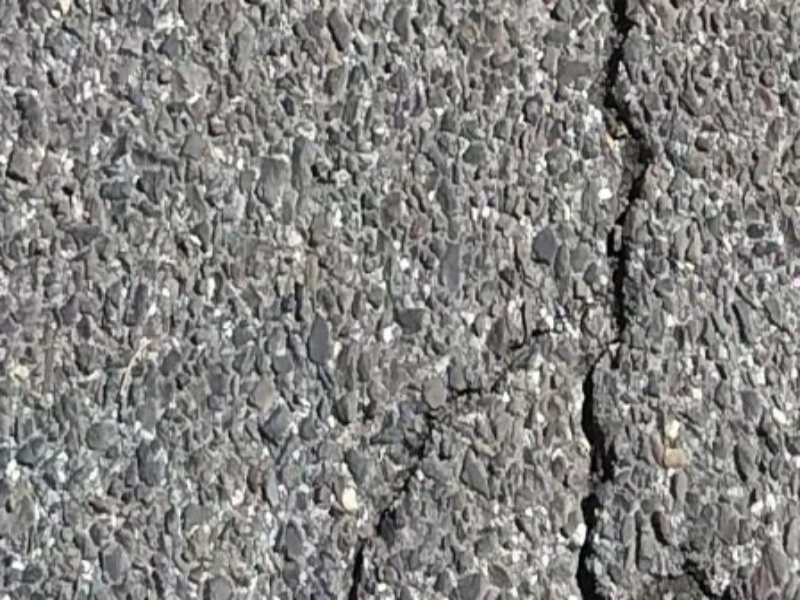crack: (537, 6, 682, 590), (353, 321, 568, 592)
